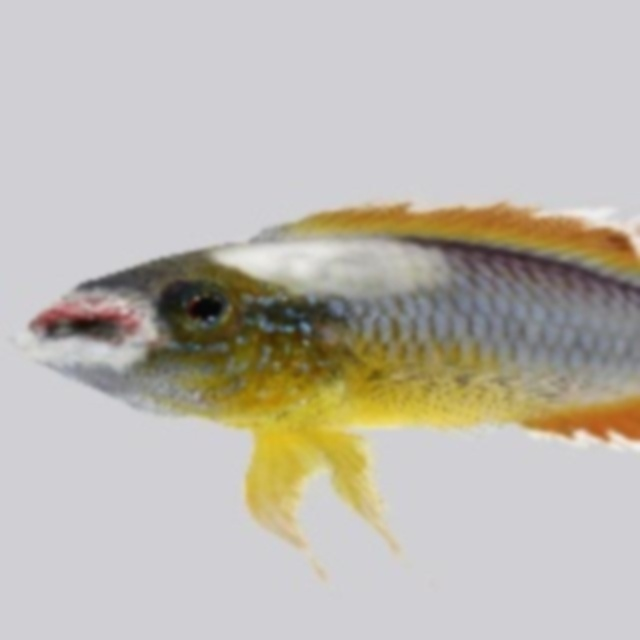Gill Disease: (9, 192, 638, 568)
